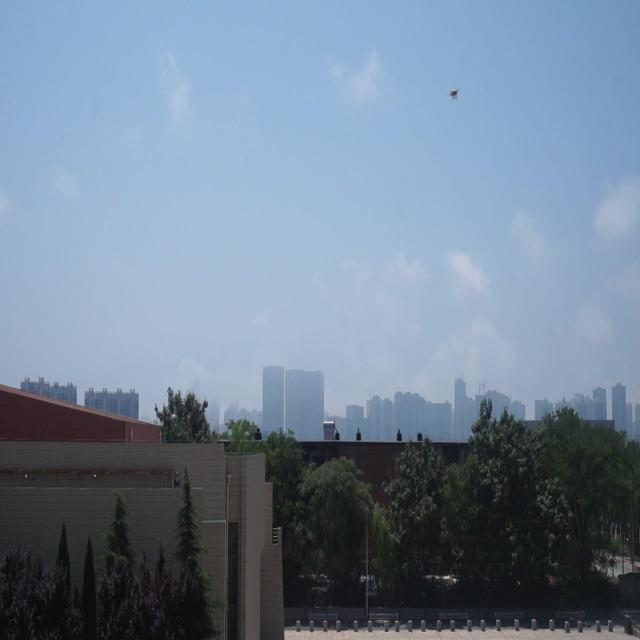drone: (447, 85, 463, 104)
